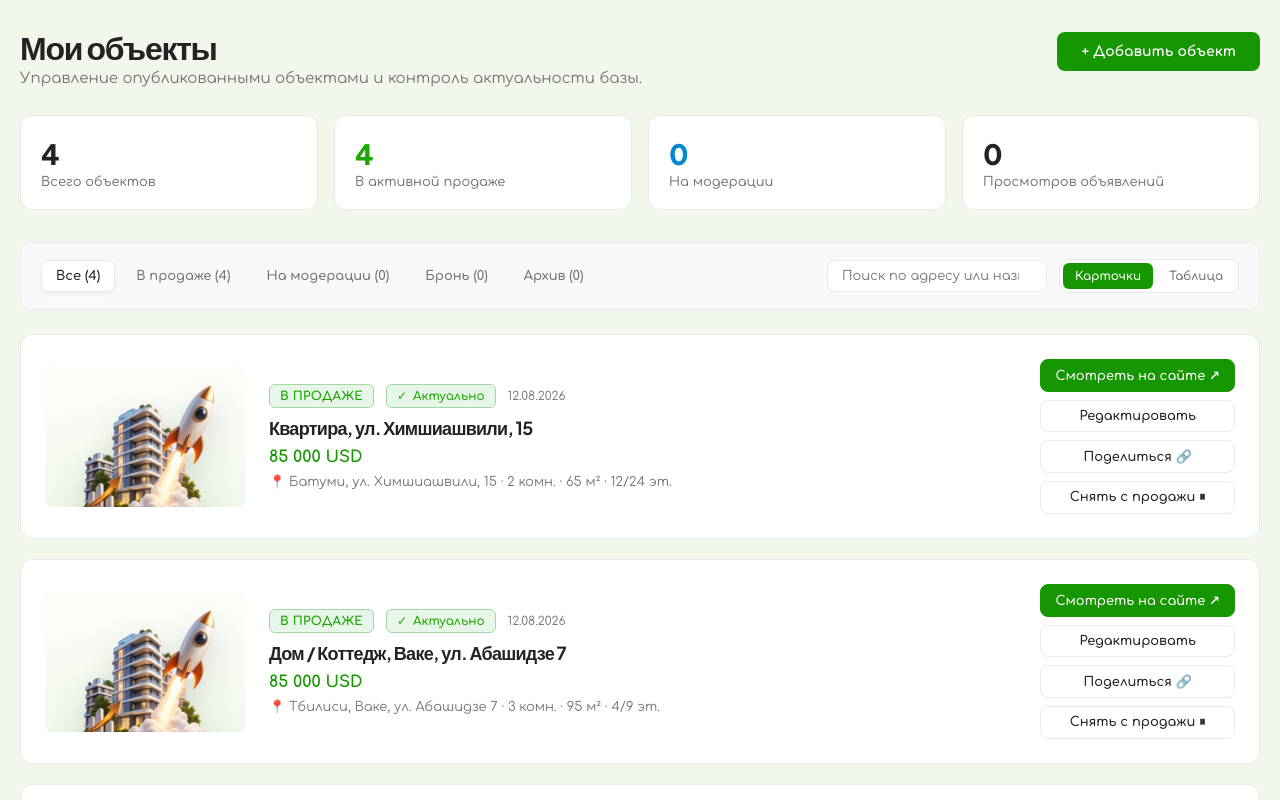
it: MyProperties Page Acceptance (MKT-SCR-019) › переключается в табличный вид
Expected: the heading "Квартира, ул. Химшиашвили, 15" is shown, [269,416,532,439]
Click the button with aria-label "Отображение таблицей" at (1196, 276), box [1157,263,1235,289]
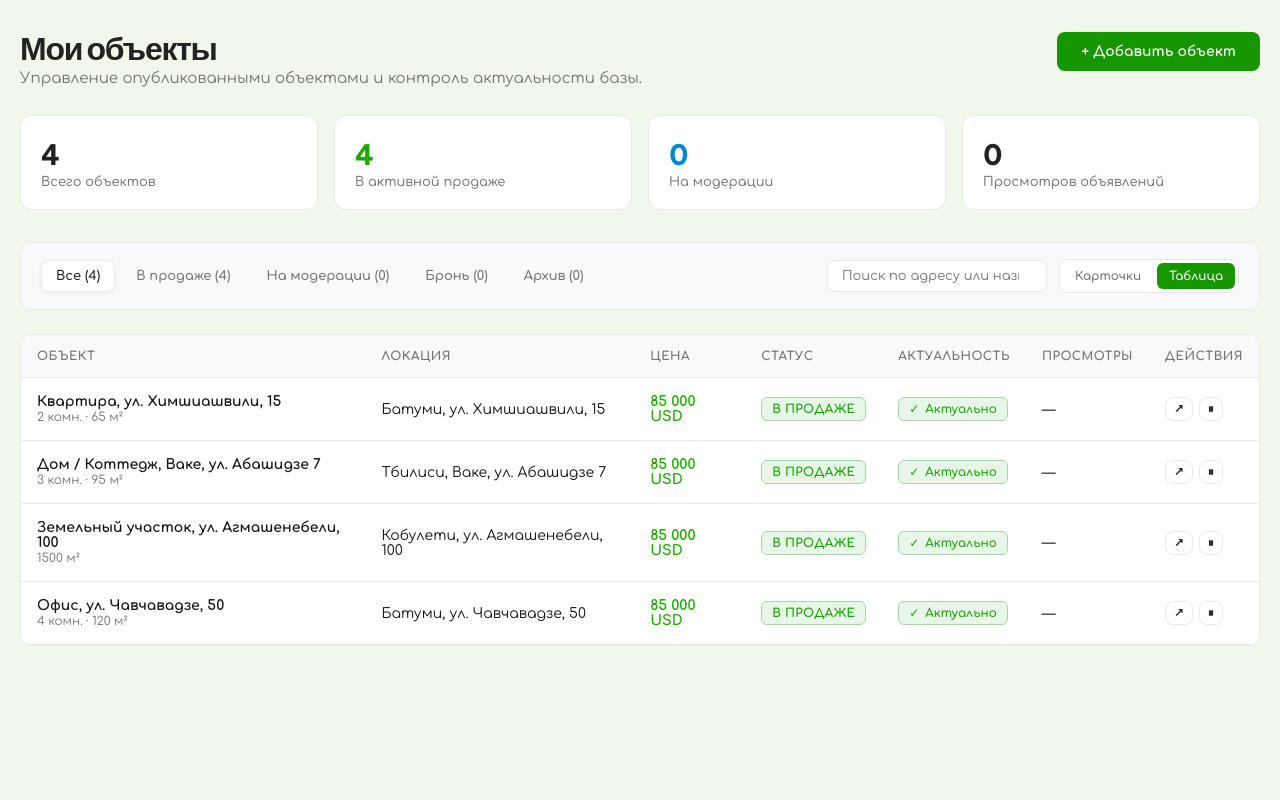
Result: the table named "Таблица моих объектов" is shown at [21,335,1259,645]
